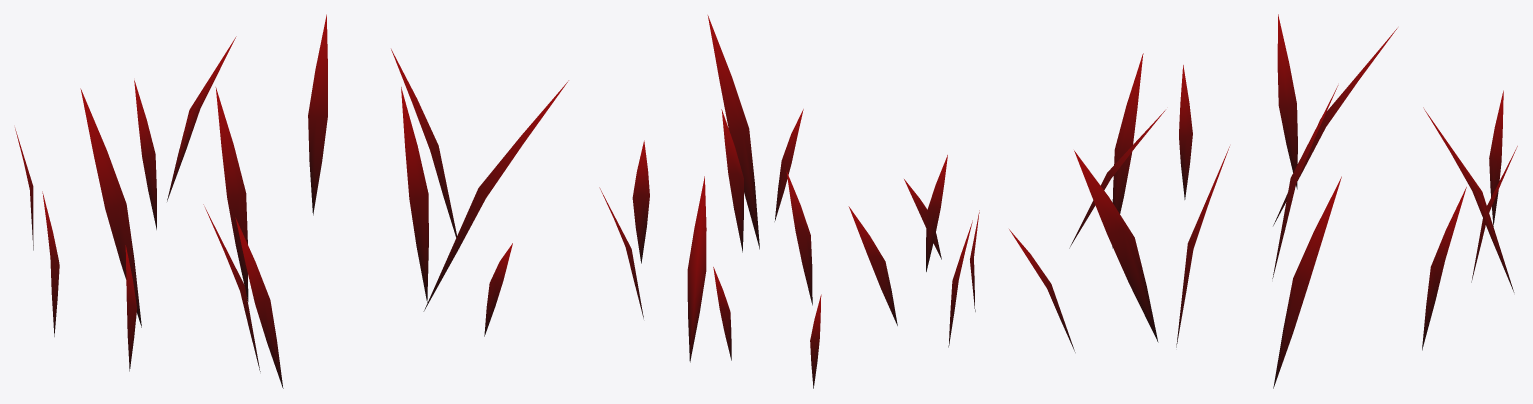
Rendered from Grass_LOD1.fbx.
The picture shows the model from 3 angles, left to right: view 1: azimuth 30°, elevation 25°; view 2: azimuth 150°, elevation 25°; view 3: azimuth 270°, elevation 25°; orthographic projection. The views are drawn at different scales.
Parts seen in each view (by area): view 1: grass; view 2: grass; view 3: grass.
Part boxes in pixels (box(x1,y1,x2,y2)): grass: box(15, 14, 568, 388); grass: box(599, 15, 979, 388); grass: box(1009, 14, 1517, 388).
Bounding box in the file's own units: 0.8771 × 0.4654 × 0.8708.
